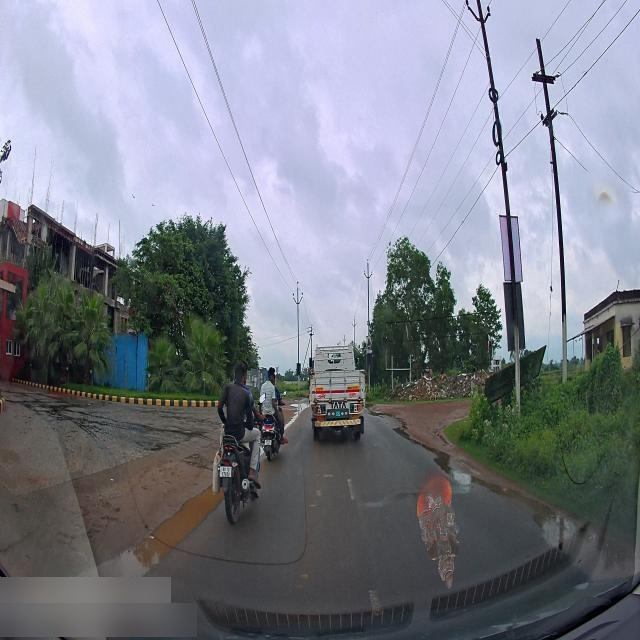pothole: (142, 487, 221, 551), (103, 554, 159, 584), (438, 460, 472, 490), (536, 514, 570, 538)
